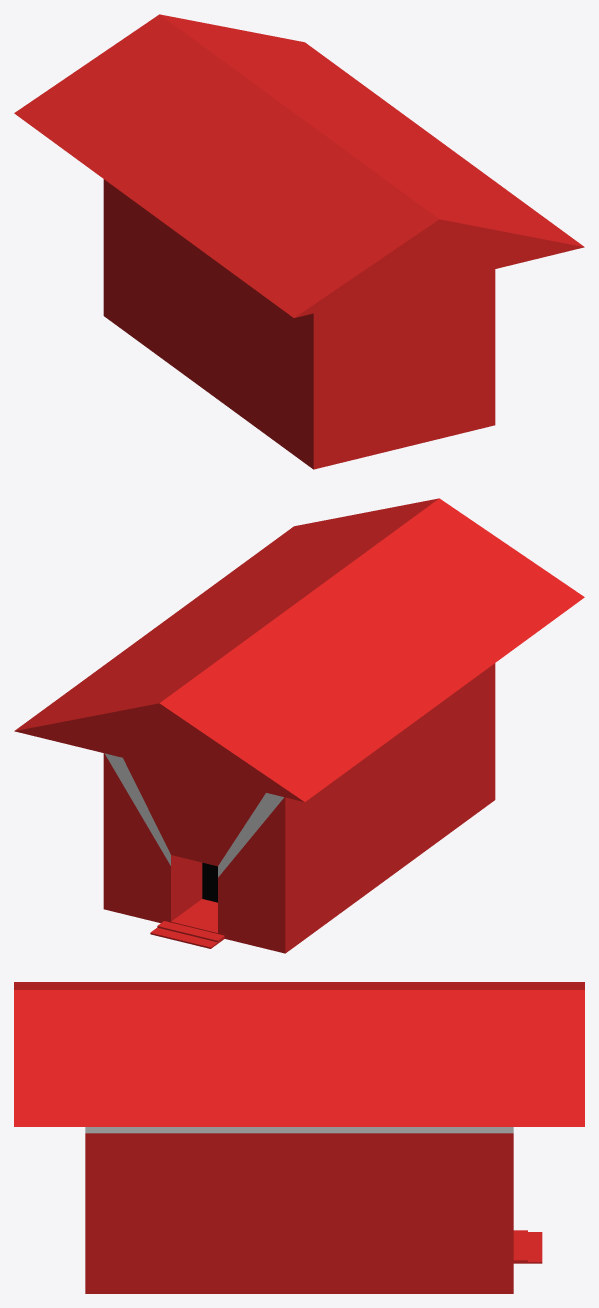
Rendered from Shed.fbx.
3 views of the same model, one above another, from view 1: azimuth 30°, elevation 25°; view 2: azimuth 150°, elevation 25°; view 3: azimuth 270°, elevation 25° (orthographic).
Parts seen in each view (by area): view 1: Shed; view 2: Shed; view 3: Shed.
Part boxes in pixels (x1,y1,x2,y2): Shed: (14,14,584,469); Shed: (14,498,584,953); Shed: (14,982,584,1293).
Size of the model in its own units: 9.6 by 16 by 8.
